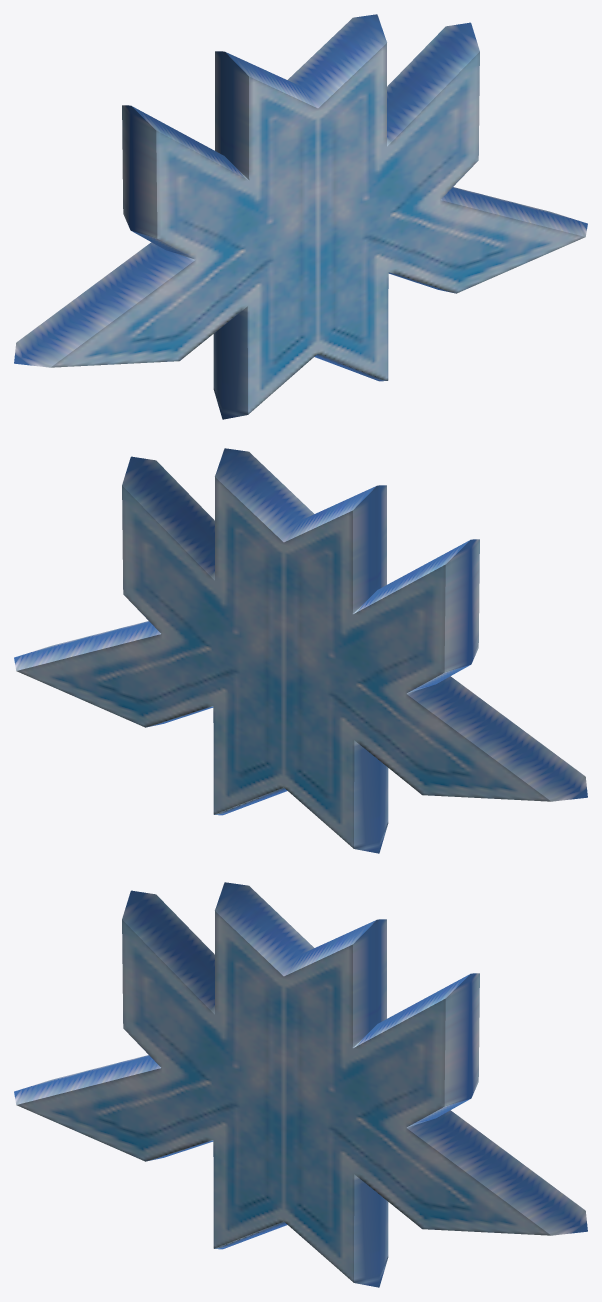
File: espn.icn.obj
3 views of the same model, one above another, from view 1: azimuth 30°, elevation 25°; view 2: azimuth 150°, elevation 25°; view 3: azimuth 330°, elevation 25° (orthographic).
Size of the model in its own units: 4.73 by 2.89 by 0.4883.
Materials: 1 (1 with a texture image).
